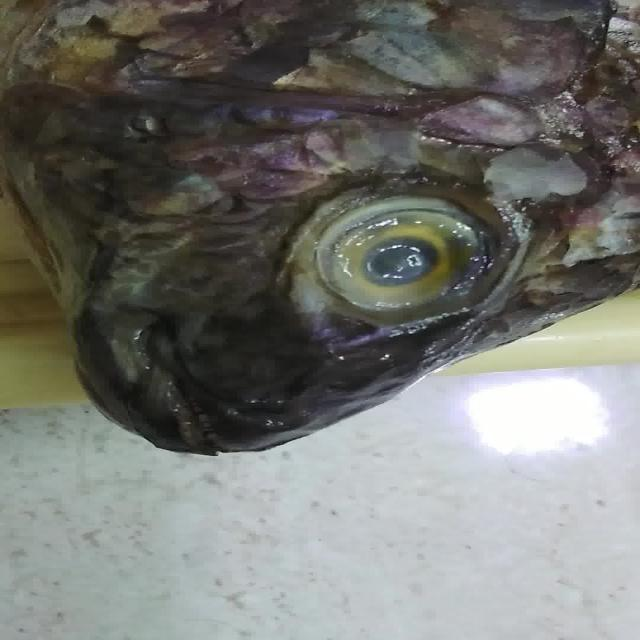Non-Fresh: (308, 188, 490, 331)
